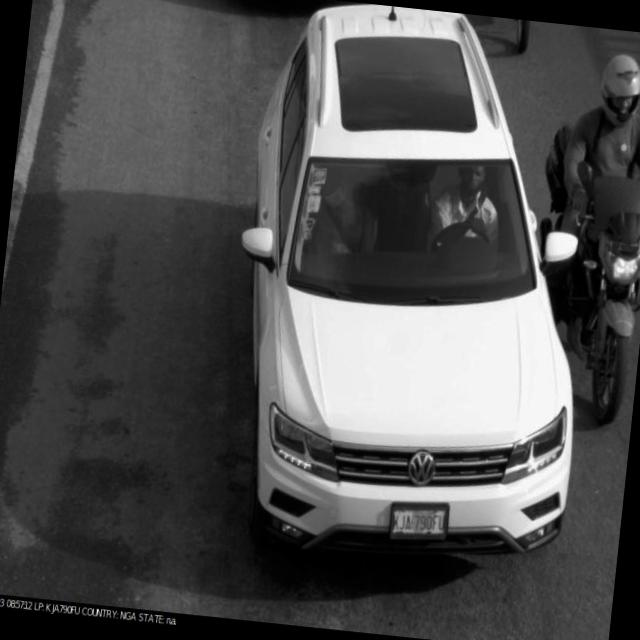person_with_seatbelt: (422, 150, 513, 271)
